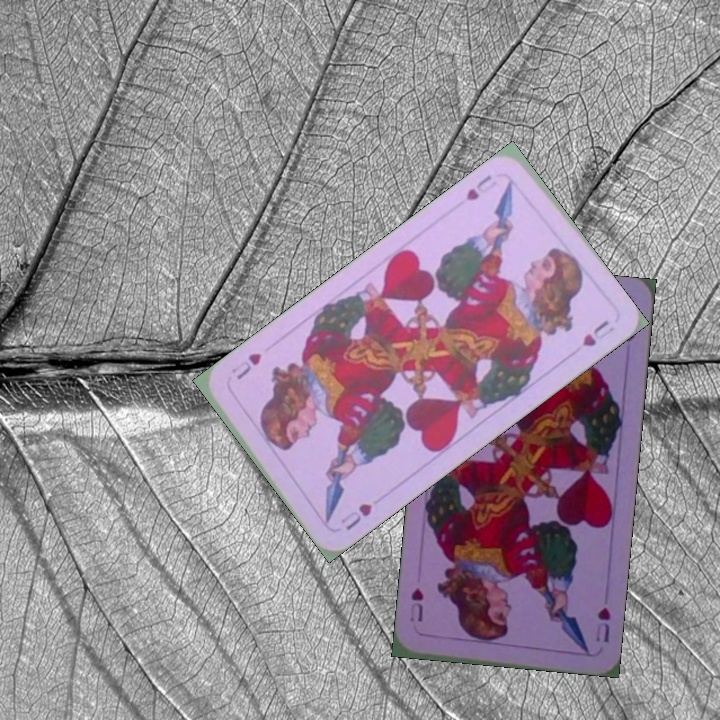HU: (462, 170, 504, 204), (336, 499, 375, 533), (591, 603, 613, 645)
